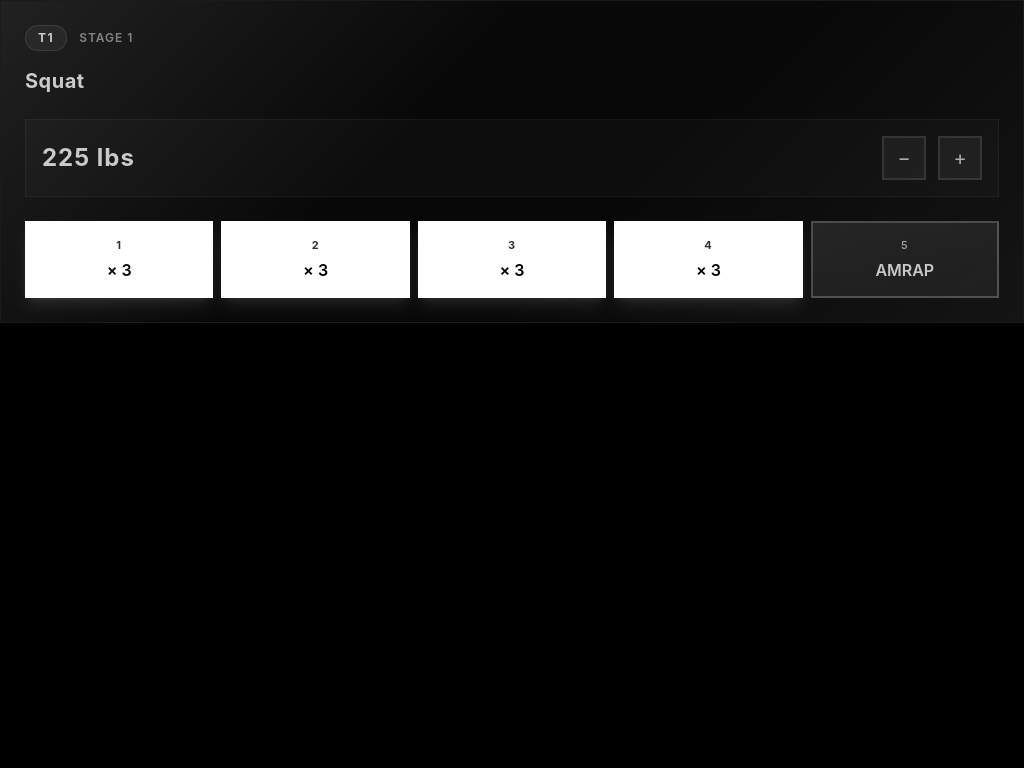
AMRAP Set Completion › should show number pad modal when clicking uncompleted AMRAP set
Note: Find the AMRAP button (last set)
Click the text "AMRAP" at (905, 270), box x1=875 y1=260 x2=934 y2=280
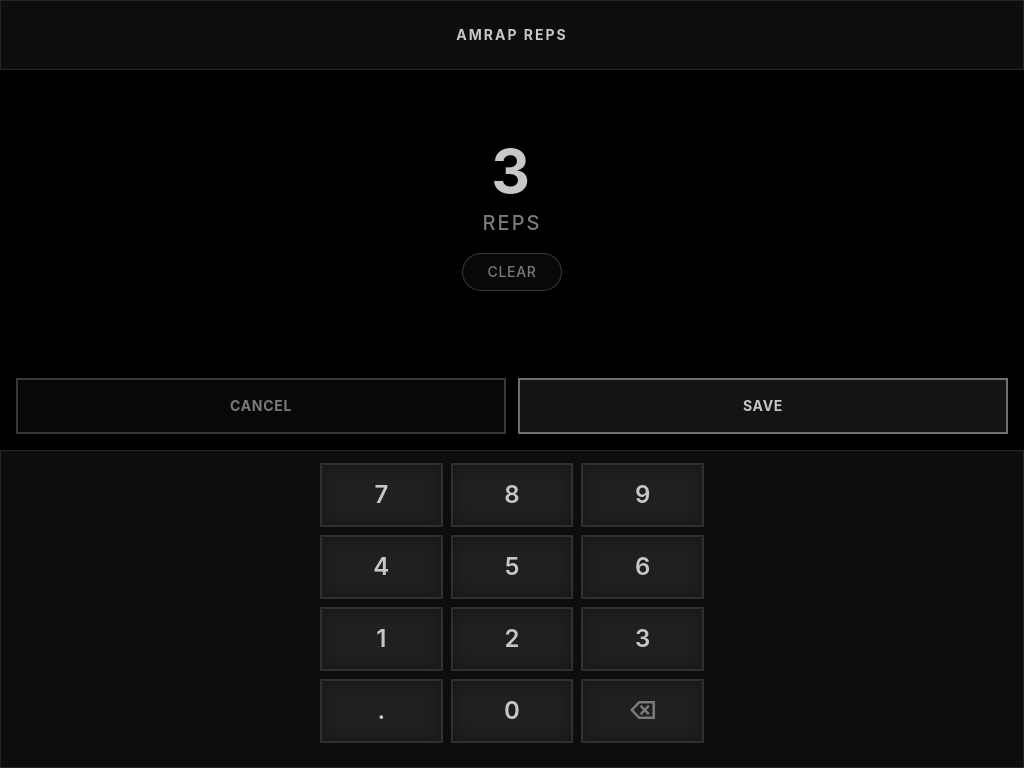
Expected: the heading "AMRAP Reps" is shown, x1=456 y1=25 x2=568 y2=45
